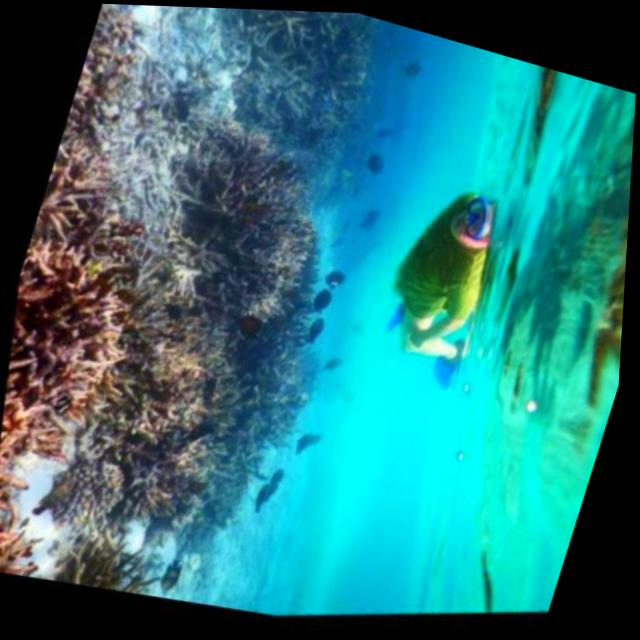Dead Coral: (3, 49, 434, 609), (0, 215, 141, 398), (43, 1, 168, 170)
